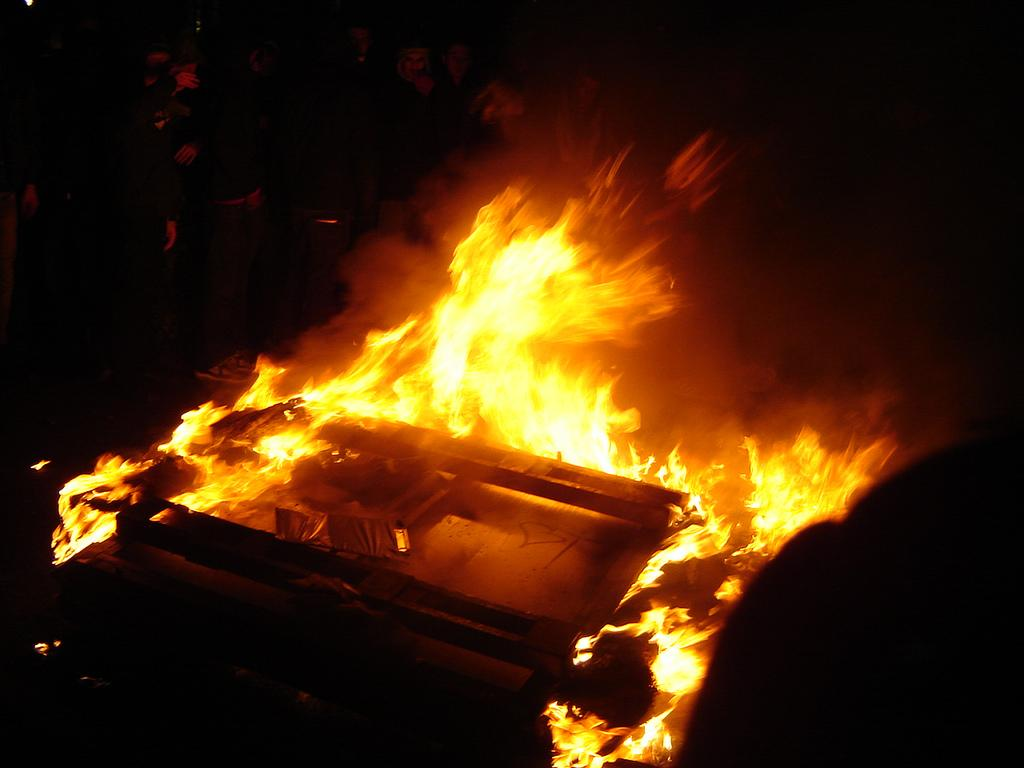fire: (444, 216, 686, 446), (208, 338, 438, 470), (722, 426, 824, 530)
